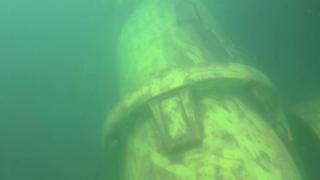pipe: (97, 1, 302, 180), (286, 100, 320, 180)
